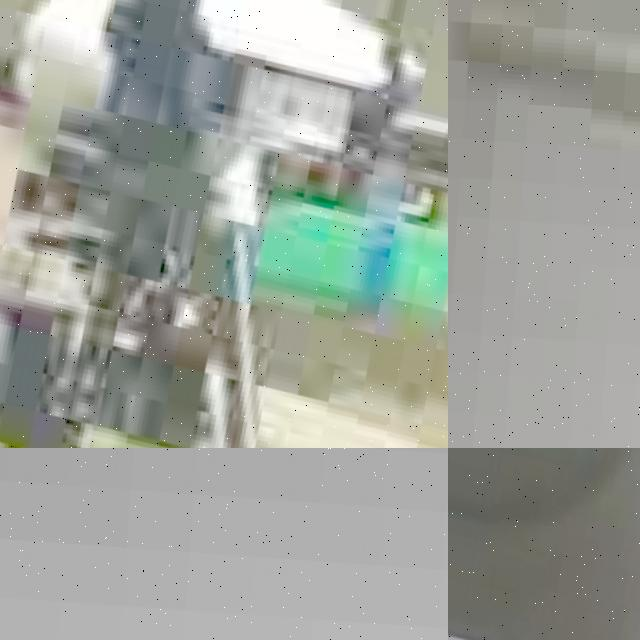0: (0, 0, 448, 448)
drone: (448, 448, 640, 640)
